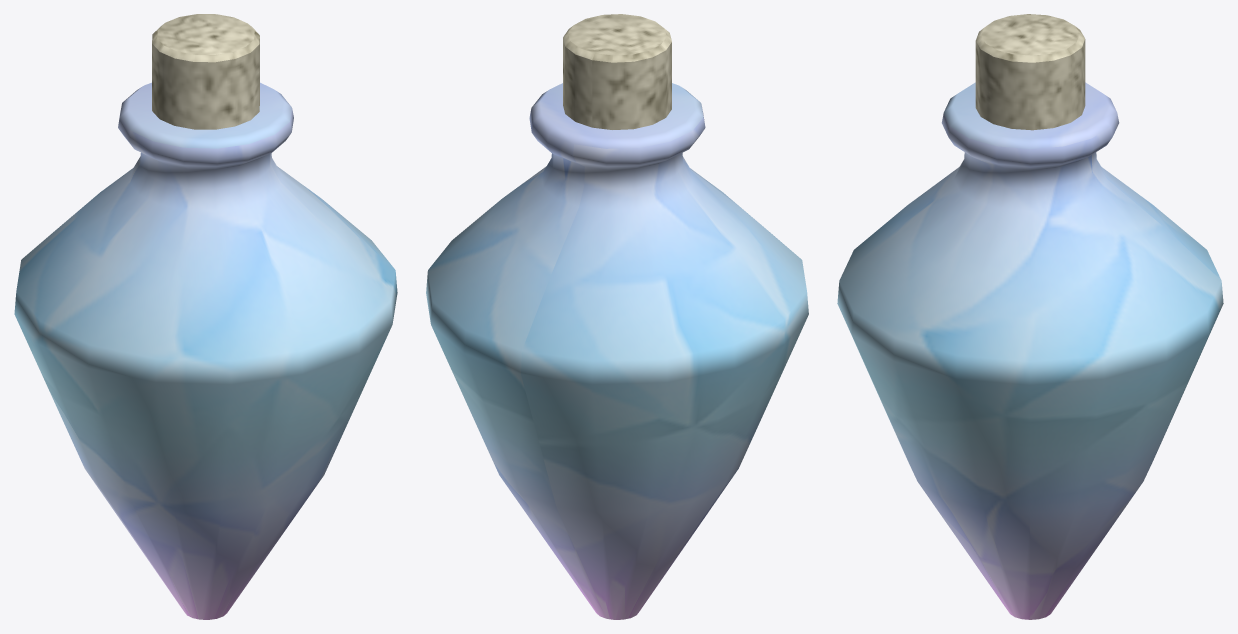
The model's file is Ether.fbx.
The picture shows the model from 3 angles, left to right: view 1: azimuth 30°, elevation 25°; view 2: azimuth 150°, elevation 25°; view 3: azimuth 270°, elevation 25°; orthographic projection.
Visible parts, largest first — view 1: pCylinder3; view 2: pCylinder3; view 3: pCylinder3.
Part boxes in pixels (x1=…): pCylinder3: x1=14, y1=14, x2=397, y2=619; pCylinder3: x1=426, y1=14, x2=808, y2=619; pCylinder3: x1=837, y1=14, x2=1223, y2=619.
Size of the model in its own units: 1.76 by 2.9 by 1.76.
